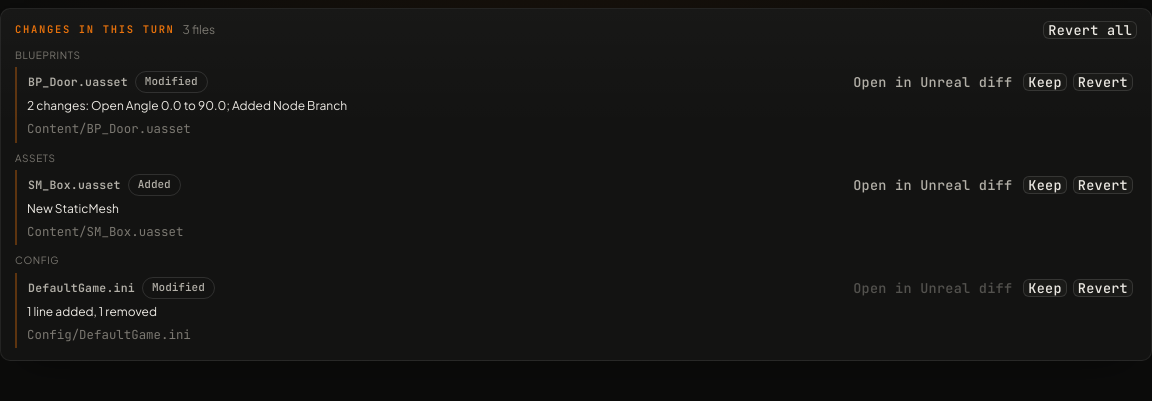
Test: the turn card › shows why Unreal could not open its diff
Click the 1st button "Open in Unreal diff" at (933, 82), box top-left (848, 73), bottom-right (1017, 91)
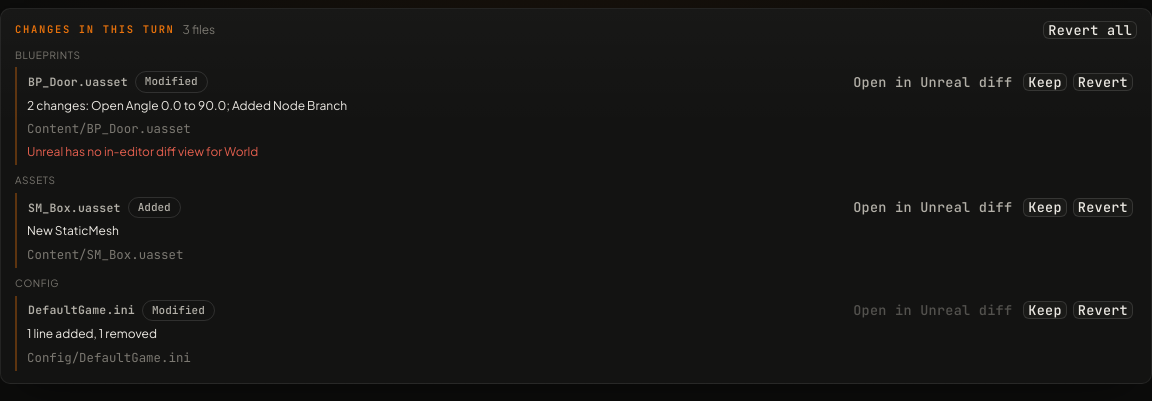
Check: the message reads "Unreal has no in-editor diff view for World", box top-left (27, 144), bottom-right (258, 158)
